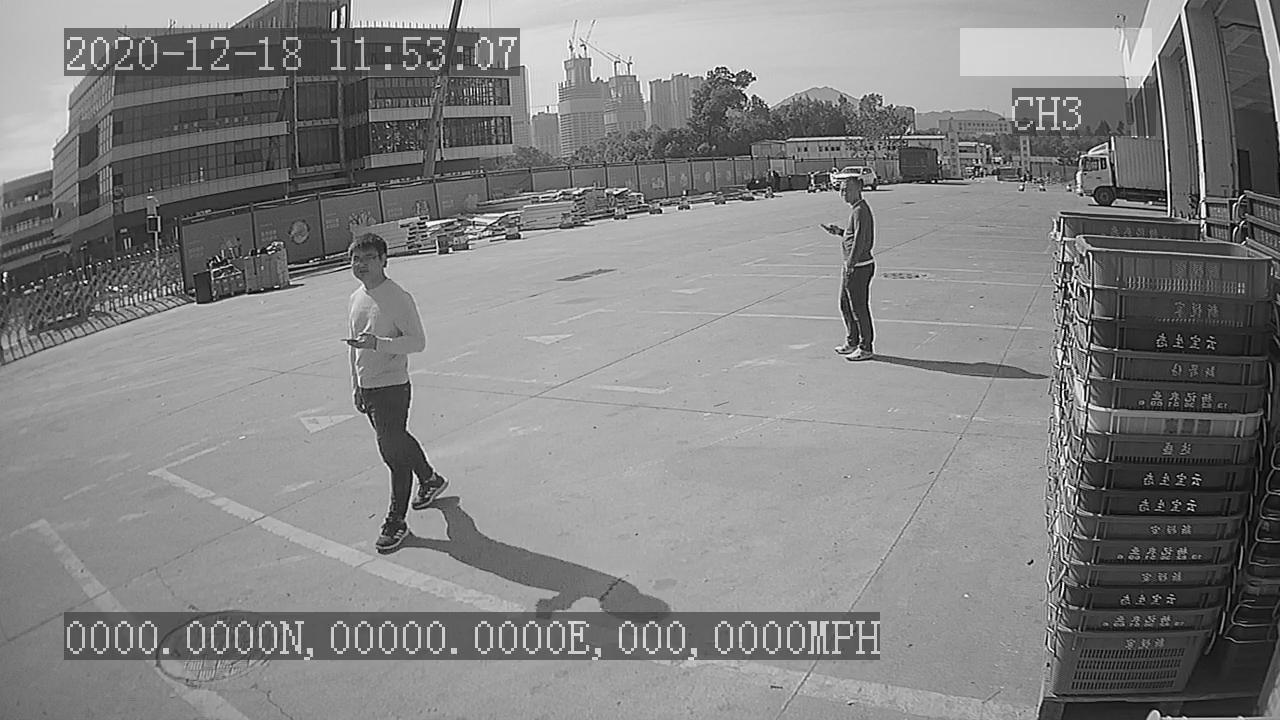person: (331, 226, 456, 558), (822, 172, 883, 365)
